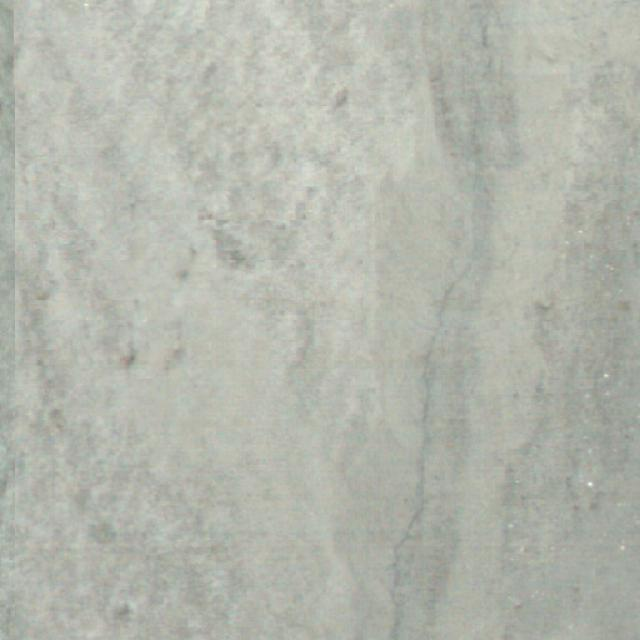Longitudinal: (374, 16, 525, 640)
